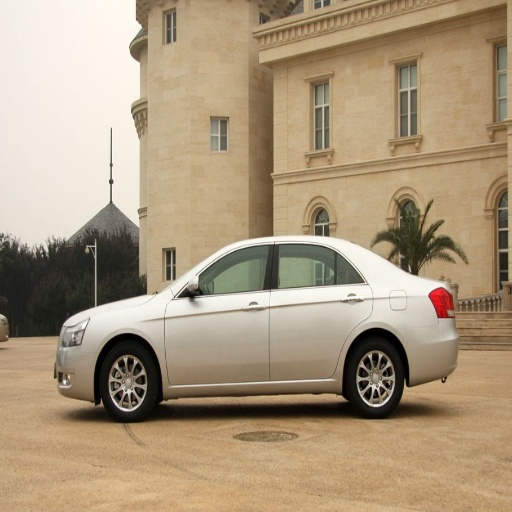back_left_door: (271, 243, 370, 379)
front_left_door: (165, 243, 274, 383)
trunk: (356, 150, 501, 210)
